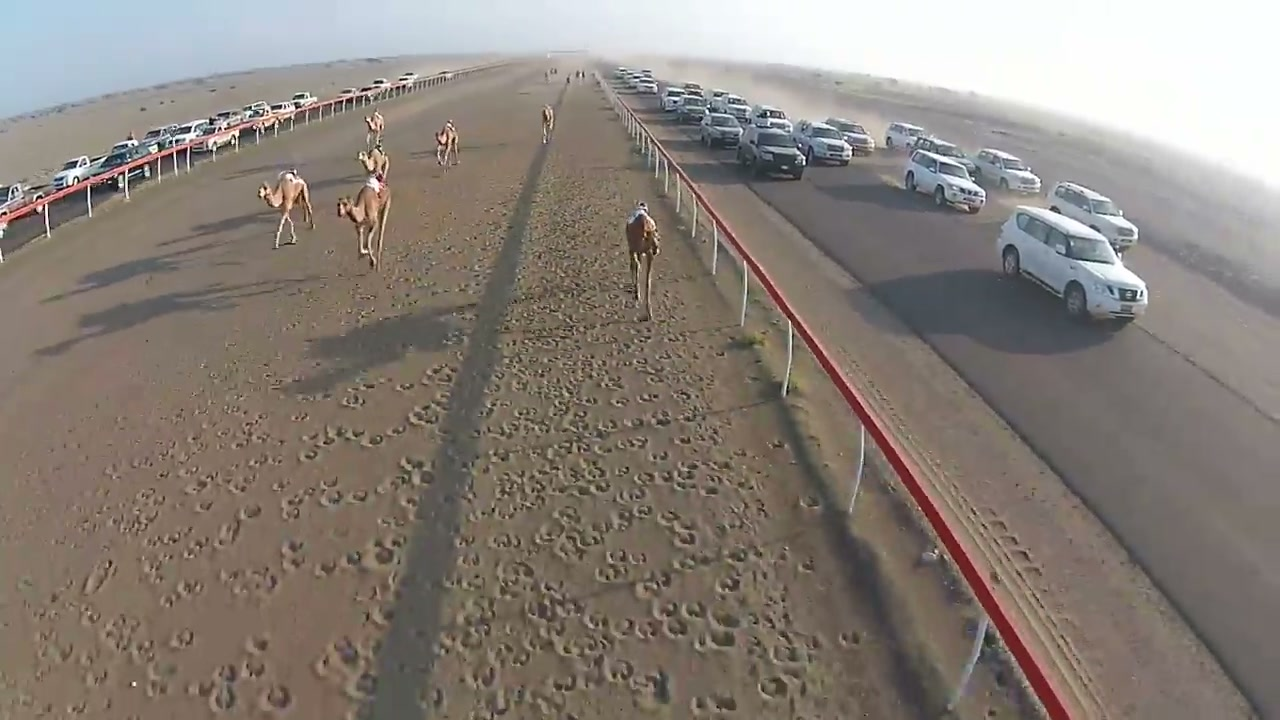animal_footprint: (0, 92, 912, 719)
